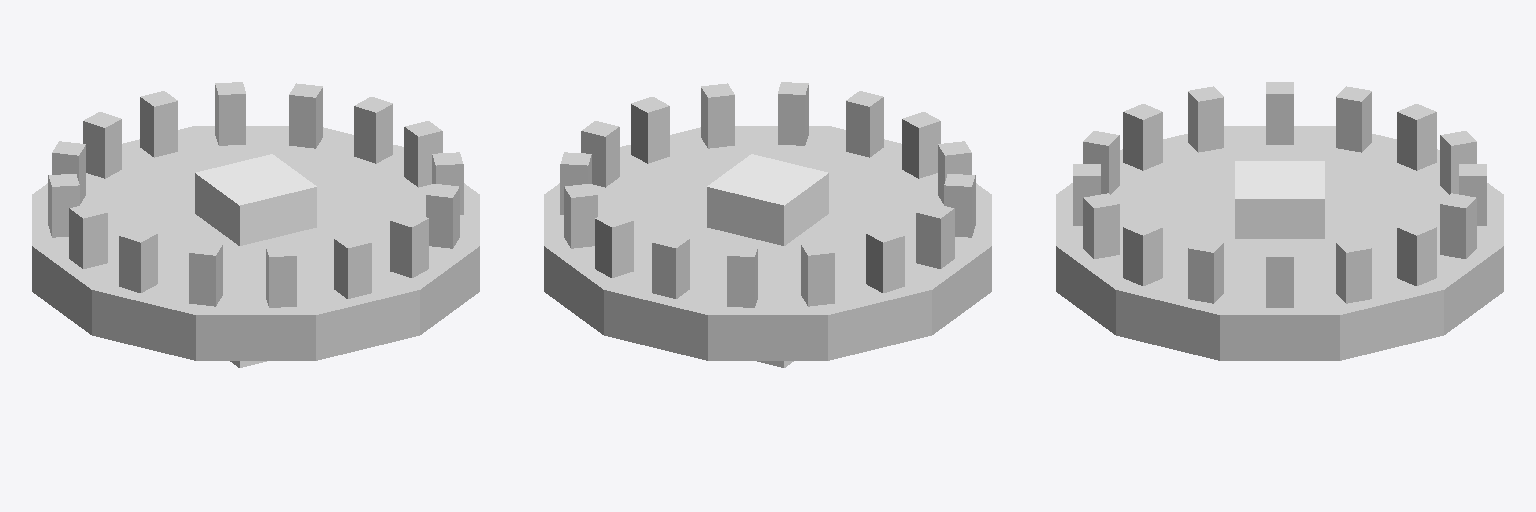
Rendered from water_wheel.obj.
The picture shows the model from 3 angles: view 1: azimuth 30°, elevation 25°; view 2: azimuth 150°, elevation 25°; view 3: azimuth 270°, elevation 25°; orthographic projection.
Visible parts, largest first — view 1: cylinder, shaft, cube.013, cube.005, cube.009, cube.014, cube.002, cube.010, cube.001, cube.004, cube.012, cube.006 (+6 smaller); view 2: cylinder, shaft, cube, cube.007, cube.003, cube.014, cube.002, cube.010, cube.011, cube.000, cube.008, cube.006 (+6 smaller); view 3: cylinder, shaft, cube.000, cube.012, cube.004, cube.008, cube.003, cube.009, cube, cube.005, cube.007, cube.013 (+6 smaller).
Part boxes in pixels (left/top/right/bottom): cylinder: left=32, top=126, right=479, bottom=360; shaft: left=195, top=154, right=316, bottom=367; cube.013: left=119, top=226, right=157, bottom=292; cube.005: left=354, top=97, right=392, bottom=163; cube.009: left=390, top=211, right=428, bottom=277; cube.014: left=69, top=202, right=107, bottom=268; cube.002: left=140, top=91, right=177, bottom=157; cube.010: left=334, top=232, right=371, bottom=298; cube.001: left=83, top=112, right=121, bottom=178; cube.004: left=289, top=83, right=322, bottom=148; cube.012: left=189, top=241, right=222, bottom=306; cube.006: left=404, top=121, right=442, bottom=187; cylinder: left=544, top=126, right=991, bottom=360; shaft: left=707, top=154, right=828, bottom=367; cube: left=866, top=226, right=904, bottom=292; cube.007: left=631, top=97, right=669, bottom=163; cube.003: left=595, top=211, right=633, bottom=277; cube.014: left=916, top=202, right=954, bottom=268; cube.002: left=652, top=232, right=689, bottom=298; cube.010: left=846, top=91, right=883, bottom=157; cube.011: left=902, top=112, right=940, bottom=178; cube.000: left=801, top=241, right=834, bottom=306; cube.008: left=701, top=83, right=734, bottom=148; cube.006: left=581, top=121, right=619, bottom=187; cylinder: left=1056, top=126, right=1503, bottom=360; shaft: left=1235, top=161, right=1324, bottom=238; cube.000: left=1397, top=104, right=1436, bottom=170; cube.012: left=1123, top=104, right=1162, bottom=170; cube.004: left=1397, top=219, right=1436, bottom=285; cube.008: left=1123, top=219, right=1162, bottom=285; cube.003: left=1440, top=193, right=1476, bottom=258; cube.009: left=1083, top=193, right=1119, bottom=258; cube: left=1336, top=86, right=1371, bottom=152; cube.005: left=1336, top=237, right=1371, bottom=303; cube.007: left=1188, top=237, right=1223, bottom=303; cube.013: left=1188, top=86, right=1223, bottom=152.
Bounding box in the file's own units: 2.5 × 1.06 × 2.5.